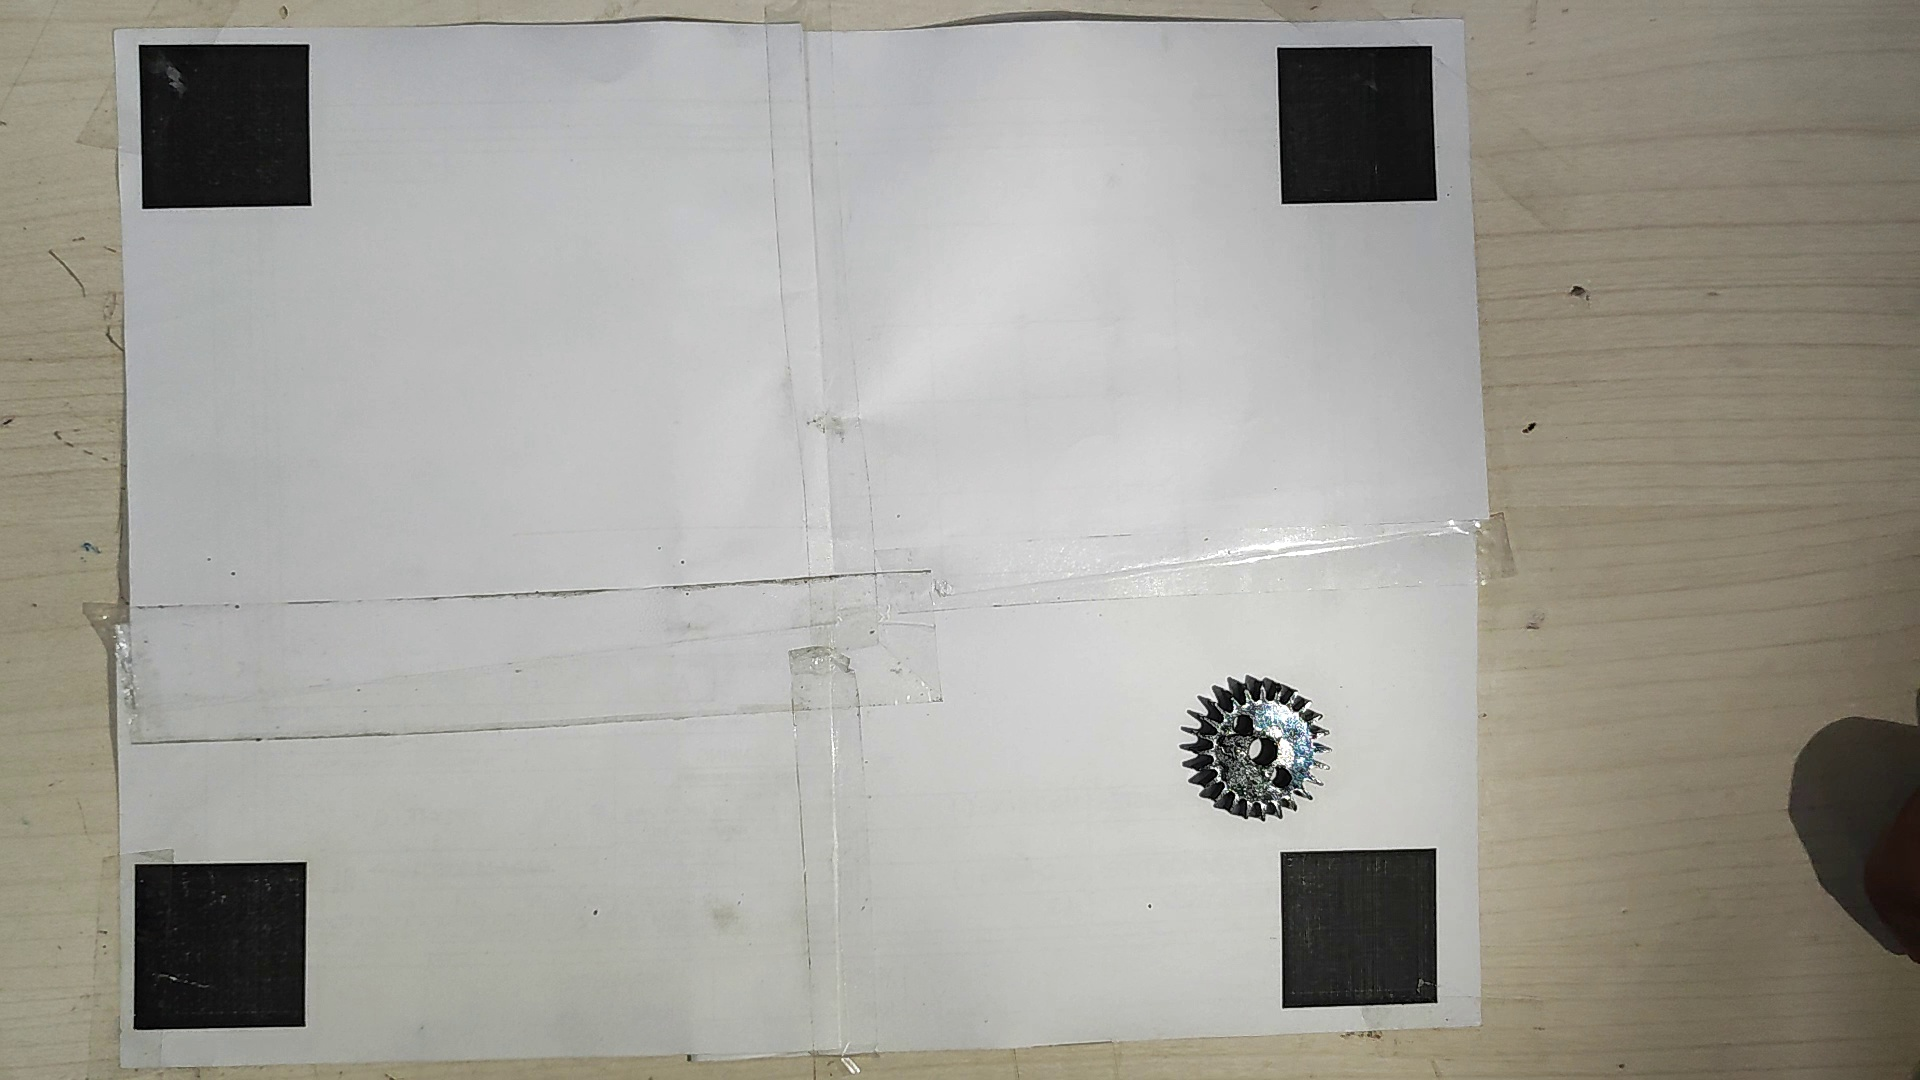Gear: (1178, 671, 1335, 823)
